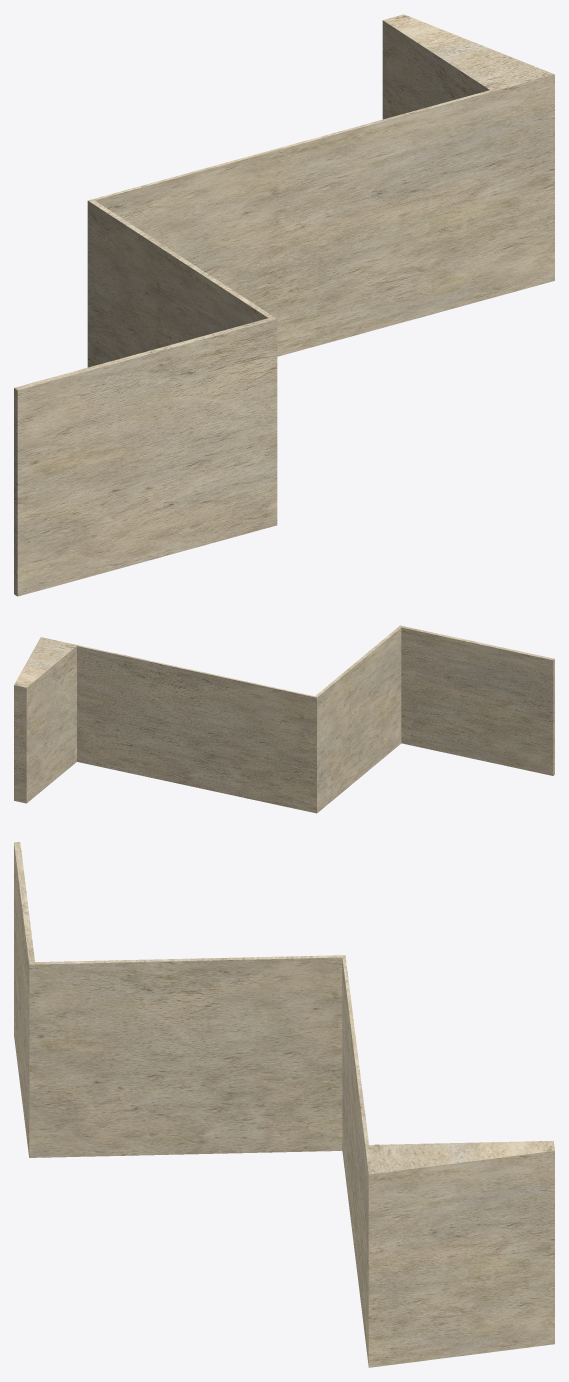
Rendered from concrete_30.fbx.
3 views of the same model, one above another, from view 1: azimuth 30°, elevation 25°; view 2: azimuth 150°, elevation 25°; view 3: azimuth 270°, elevation 25° (orthographic). The views are drawn at different scales.
Parts seen in each view (by area): view 1: concrete_30; view 2: concrete_30; view 3: concrete_30.
Boxes of the visible parts, left/top/right/bottom form: concrete_30: left=14, top=14, right=554, bottom=596; concrete_30: left=14, top=625, right=554, bottom=813; concrete_30: left=14, top=842, right=554, bottom=1367.
Size of the model in its own units: 1253 by 340 by 862.
